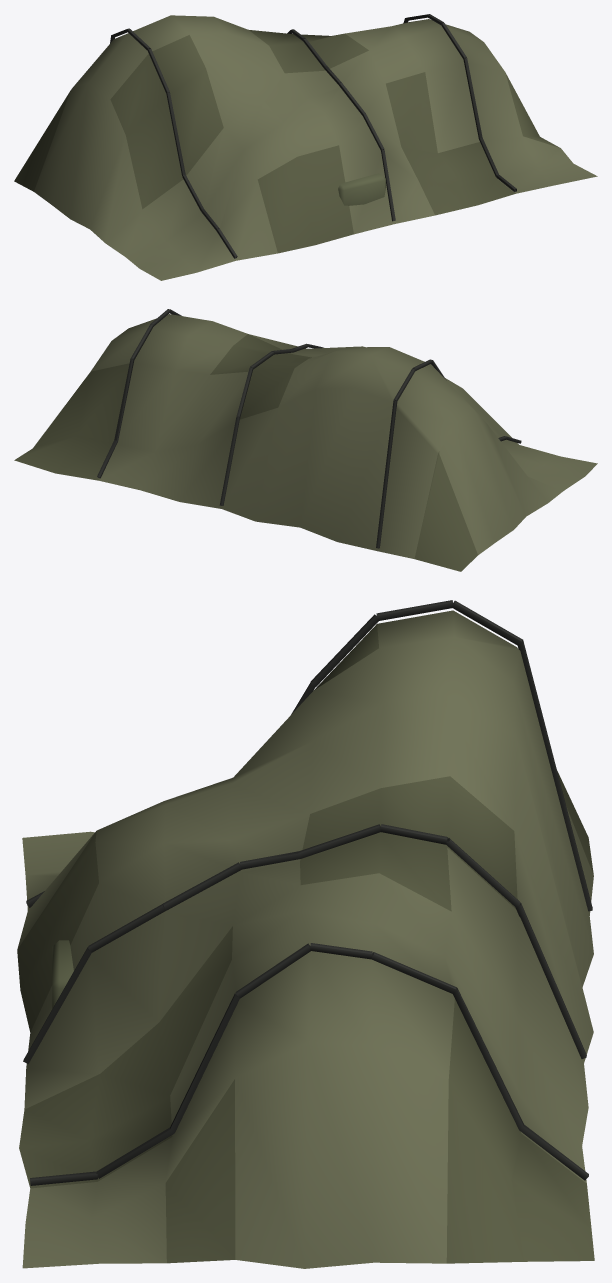
The model's file is tarp_1.glb.
The picture shows the model from 3 angles, top to bottom: view 1: azimuth 30°, elevation 25°; view 2: azimuth 150°, elevation 25°; view 3: azimuth 270°, elevation 25°; orthographic projection. The views are drawn at different scales.
Visible parts, largest first — view 1: tarp_1; view 2: tarp_1; view 3: tarp_1.
Part boxes in pixels (x1,y1,x2,y2): tarp_1: (14, 14, 597, 280); tarp_1: (14, 309, 597, 571); tarp_1: (17, 600, 594, 1268).
Bounding box in the file's own units: 1.72 × 0.6103 × 0.9712.
Materials: 1 (1 with a texture image).
